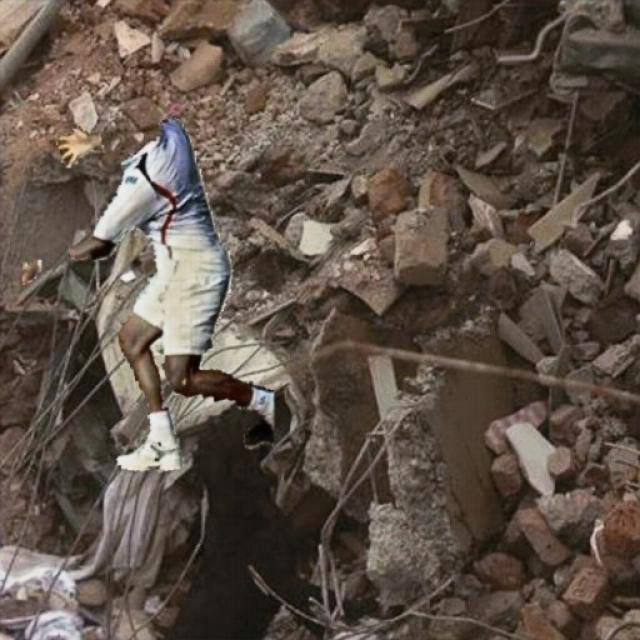Person in Rubble: (22, 118, 272, 472)
